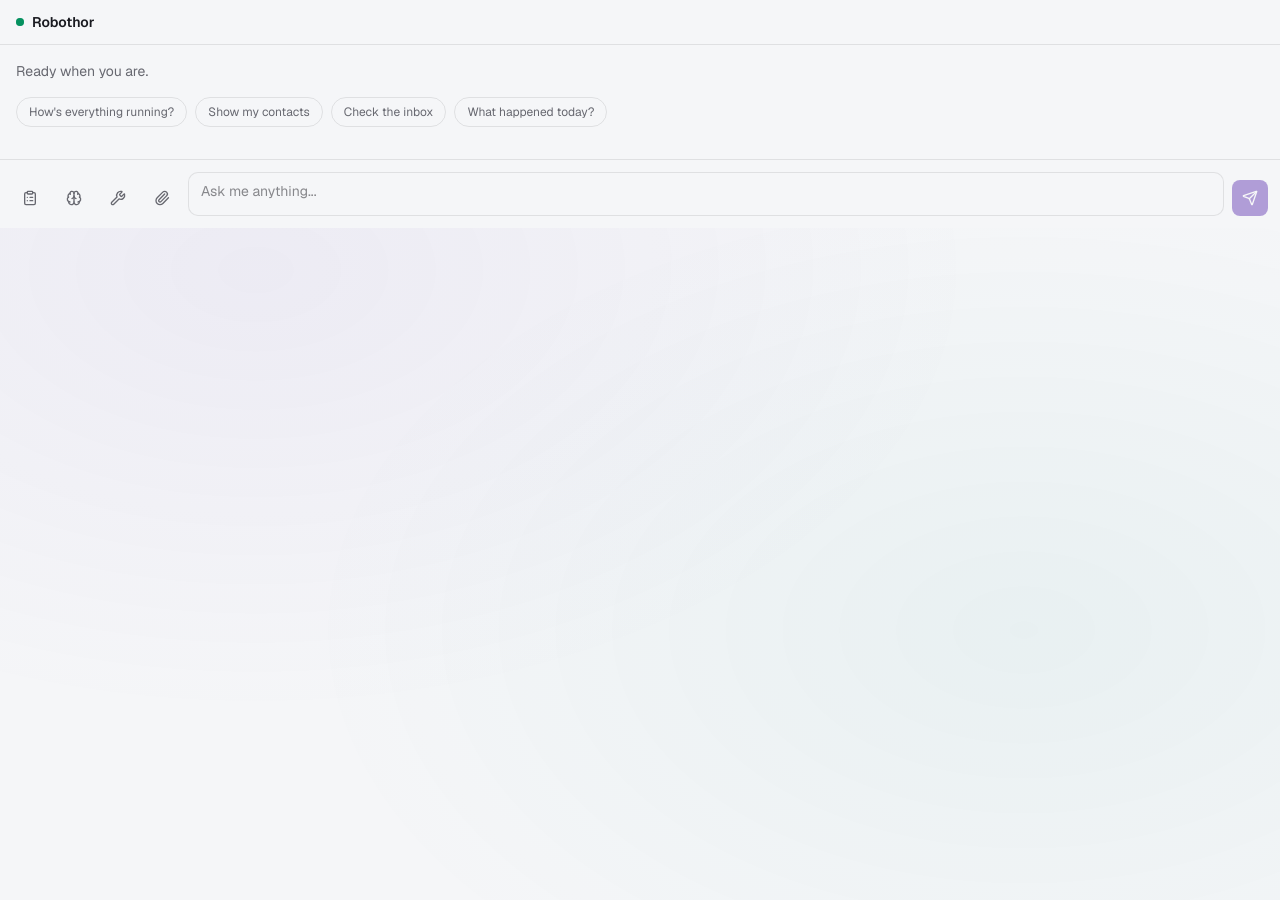
Test: ChatPanel — canvas markers on a recovered reply › hands [DASHBOARD:…] data to the canvas
Step 1. Type "Chart my tasks on the canvas" into the text box with test id "chat-input" → x=706, y=194, box [188,172,1224,216]
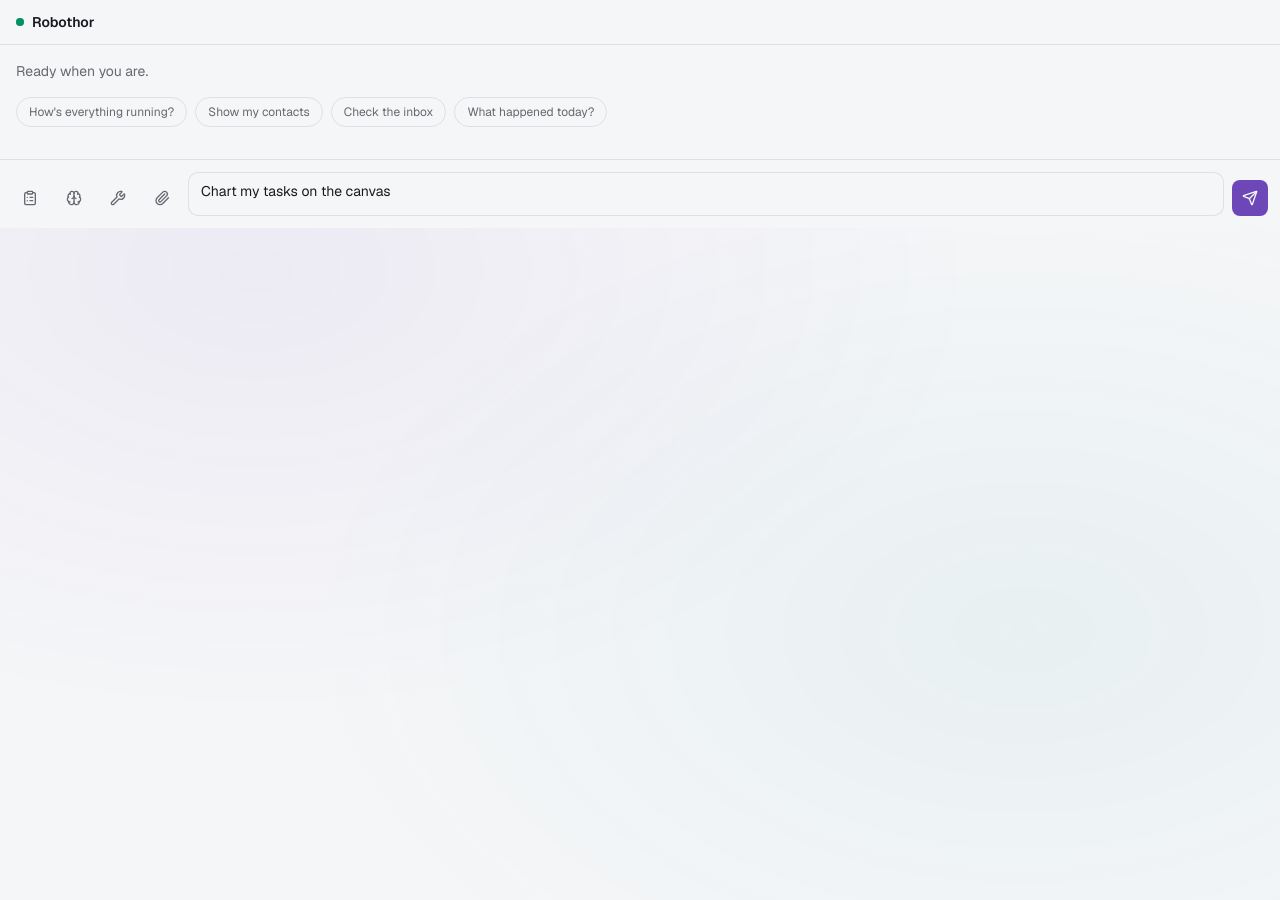
Step 2. Click the button with test id "send-button" → x=1250, y=198, box [1232,180,1268,216]
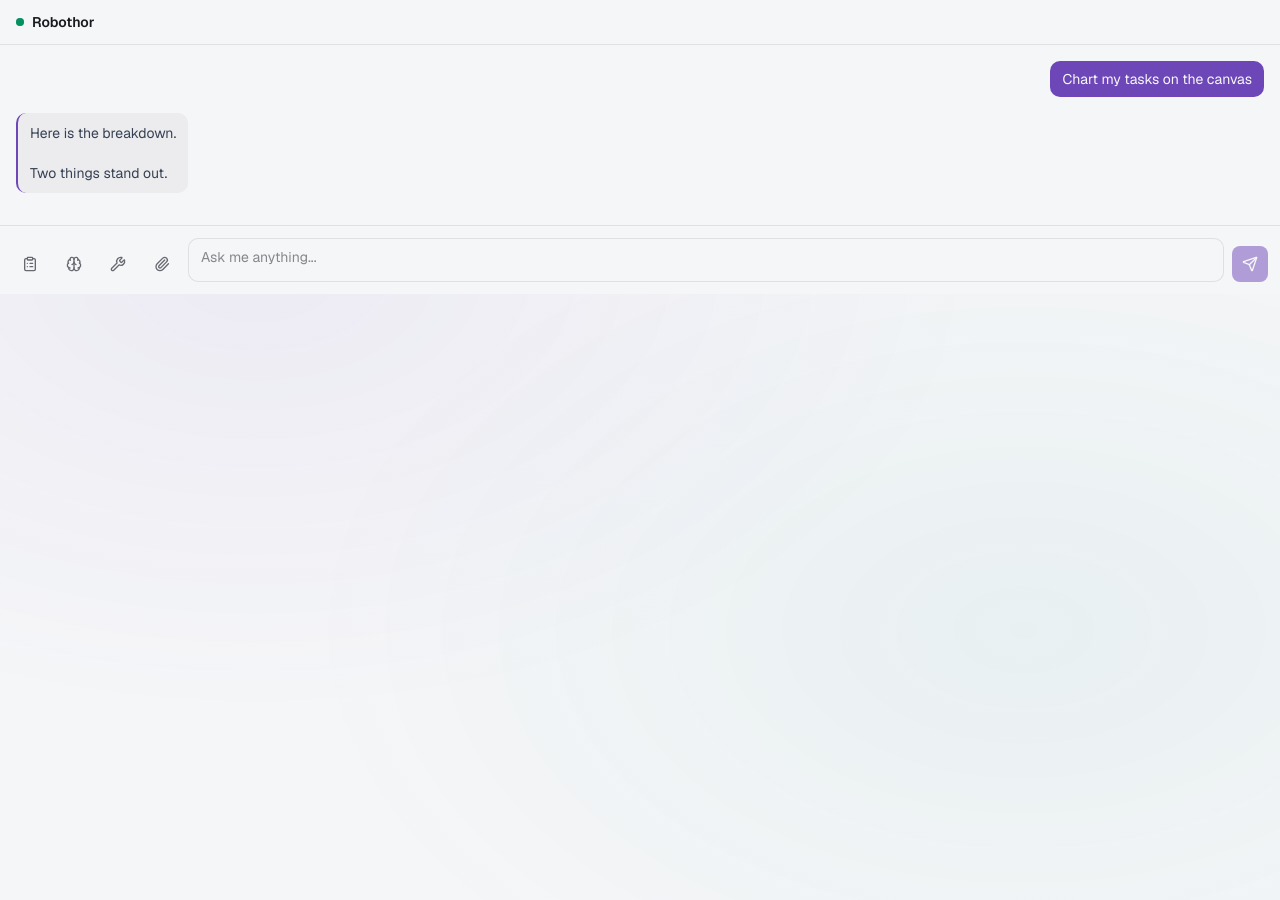
Expected: the element with test id "message-assistant" shows "Two things stand out.", [30,164,167,182]
